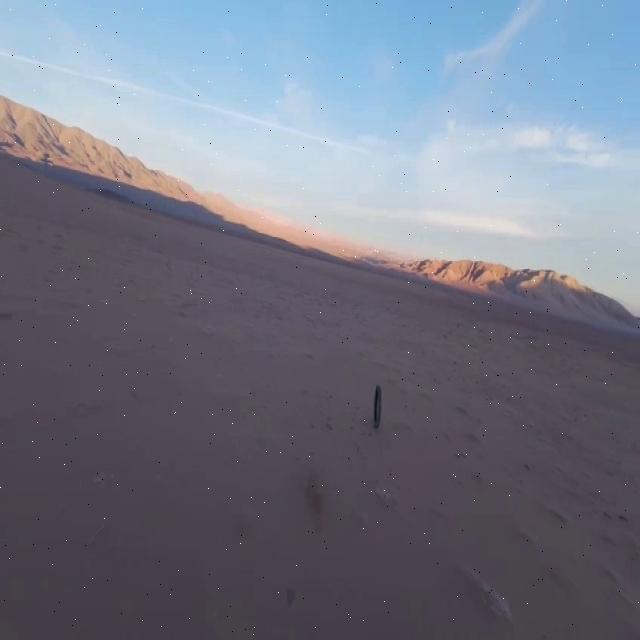Tire: (374, 386, 381, 427)
